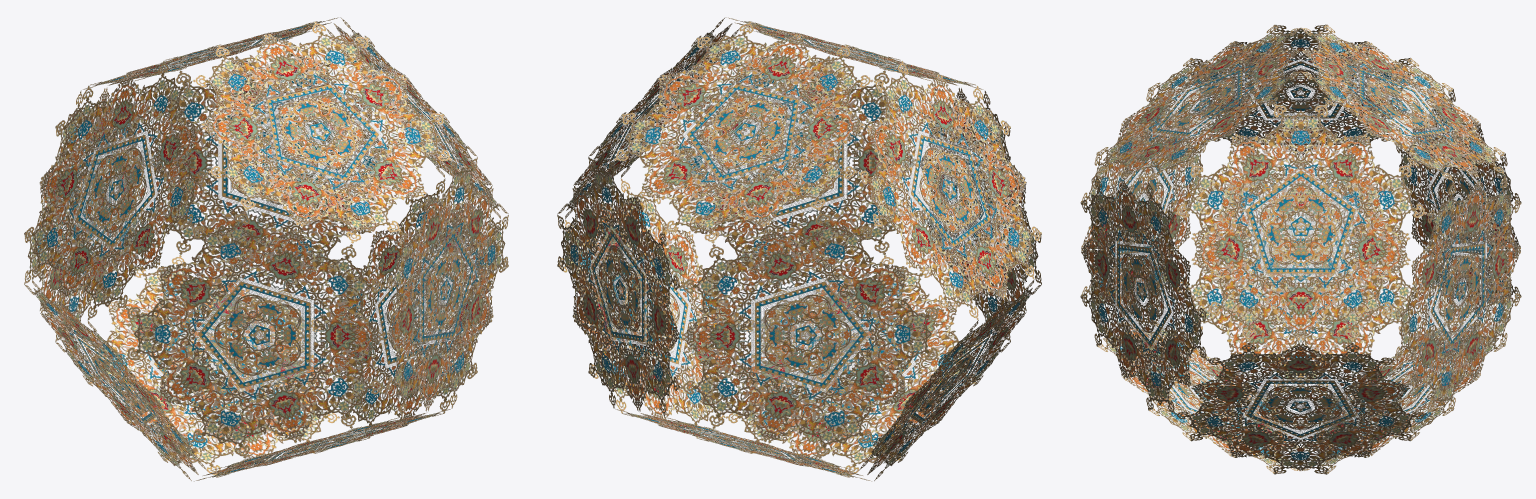
The model's file is Dodecahedron8.obj.
3 views of the same model, side by side, from view 1: azimuth 30°, elevation 25°; view 2: azimuth 150°, elevation 25°; view 3: azimuth 270°, elevation 25° (orthographic). The views are drawn at different scales.
Size of the model in its own units: 2.62 by 2.62 by 2.62.
1 material, 1 textured.
